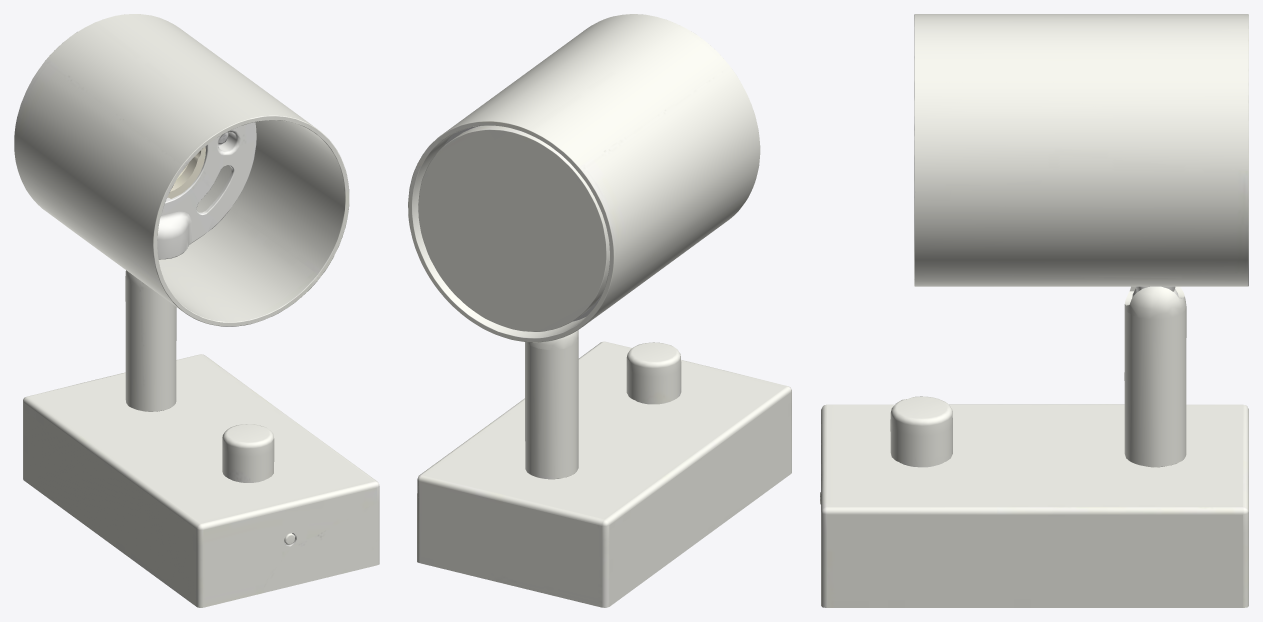
File: lanterna.glb
3 views of the same model, side by side, from view 1: azimuth 30°, elevation 25°; view 2: azimuth 150°, elevation 25°; view 3: azimuth 270°, elevation 25° (orthographic). The views are drawn at different scales.
Parts seen in each view (by area): view 1: model; view 2: model; view 3: model.
Part boxes in pixels (x1=…): model: x1=14, y1=14, x2=379, y2=607; model: x1=408, y1=14, x2=791, y2=607; model: x1=820, y1=14, x2=1248, y2=607.
Bounding box in the file's own units: 0.0701 × 0.1498 × 0.1102.
Materials: 1 (1 with a texture image).
